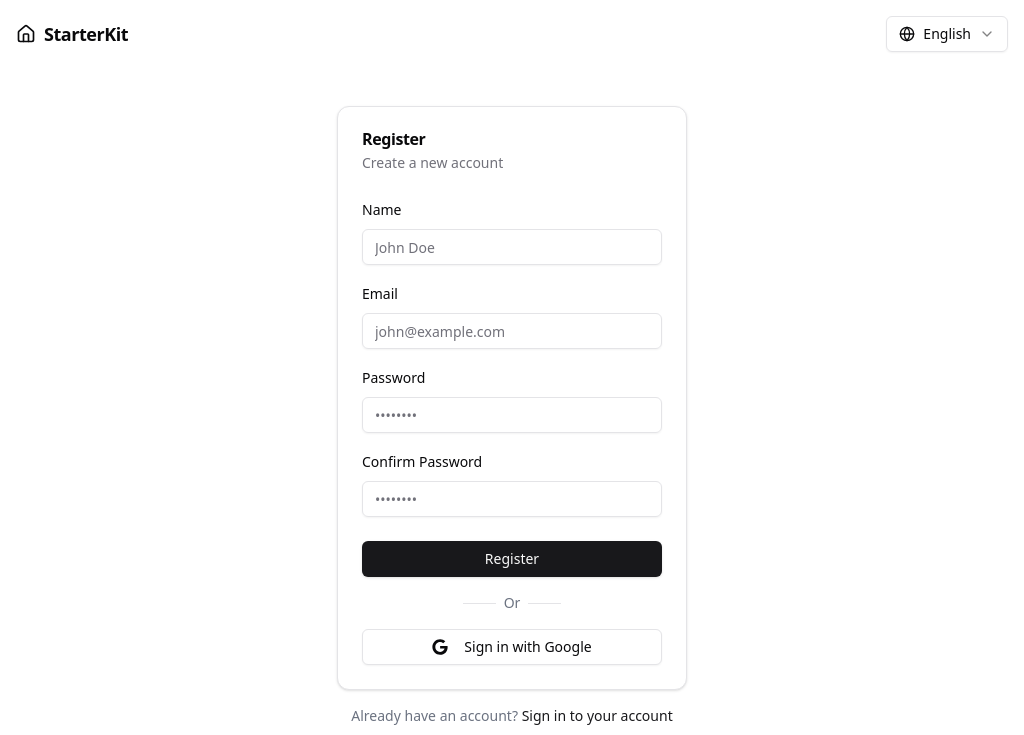
Test: AuthPage › password validation › displays error when password lacks uppercase letter
The width and height of the screenshot is (1024, 735).
In the password field labelled "Password": (512, 415) [362,397,662,433], type "test123!"
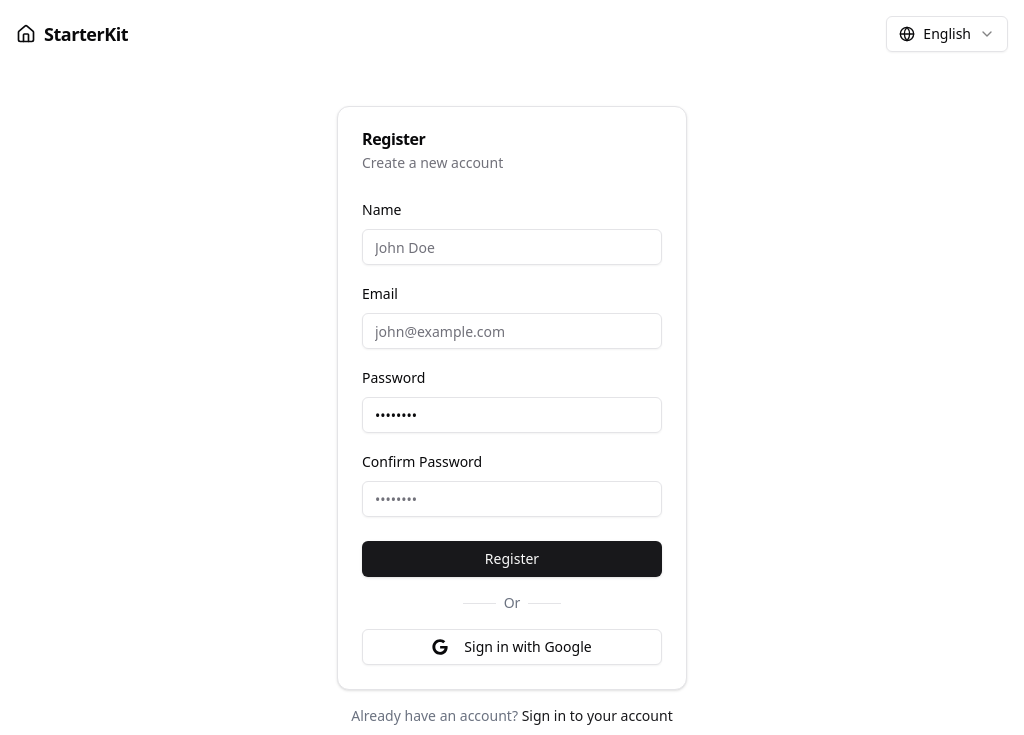
Submit the form with test id "register-form", box [338,197,686,689]
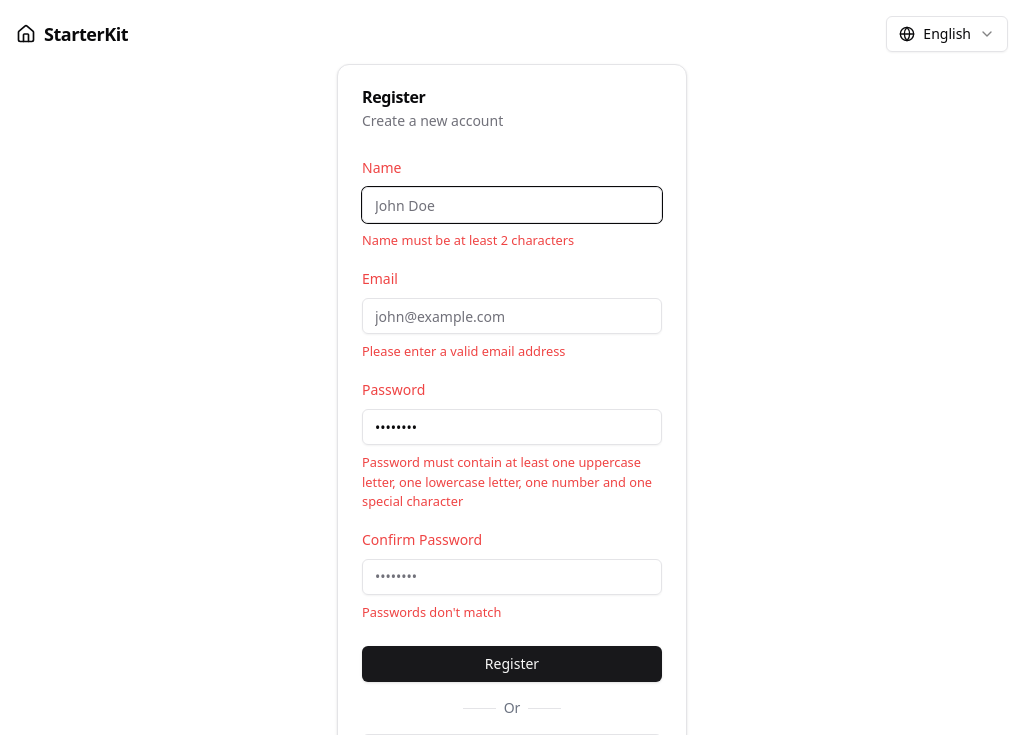
Expected: the text "uppercase" is shown, [362,453,652,510]
